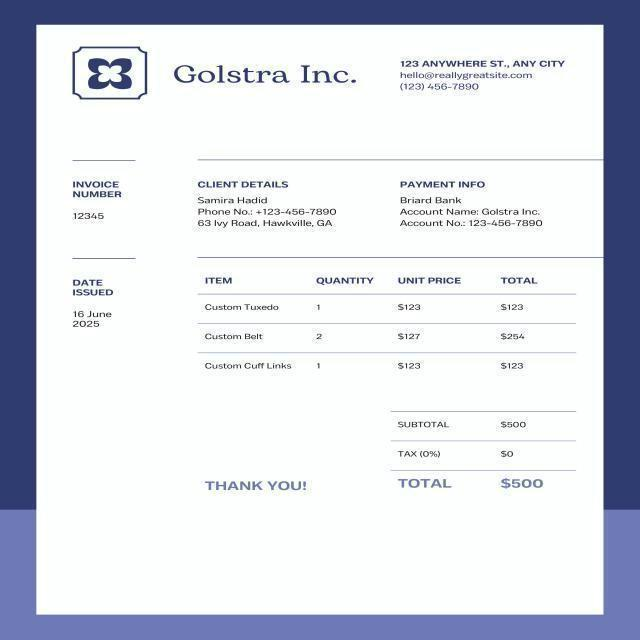paragraph: (384, 393, 582, 506), (188, 173, 343, 237), (396, 177, 548, 237), (173, 51, 365, 96), (50, 41, 170, 107), (392, 56, 569, 100), (56, 271, 129, 343), (60, 173, 129, 230), (202, 471, 312, 506)
table: (184, 267, 585, 384)
